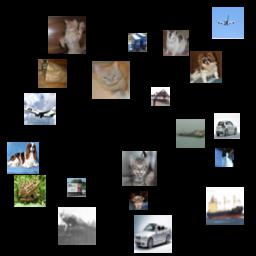airplane: (58, 207, 96, 245), (24, 93, 56, 125), (212, 7, 244, 39), (151, 87, 170, 106)
automobile: (134, 215, 172, 253), (214, 113, 240, 139)
cat: (92, 61, 130, 99), (48, 16, 86, 54), (122, 151, 157, 186), (38, 59, 67, 88), (163, 30, 189, 56), (215, 148, 234, 167)
dog: (190, 51, 222, 83), (7, 142, 39, 174), (129, 191, 148, 210)
frog: (14, 175, 46, 207)
ship: (206, 187, 244, 225), (176, 119, 205, 148)
truck: (67, 178, 86, 197), (128, 33, 147, 52)
